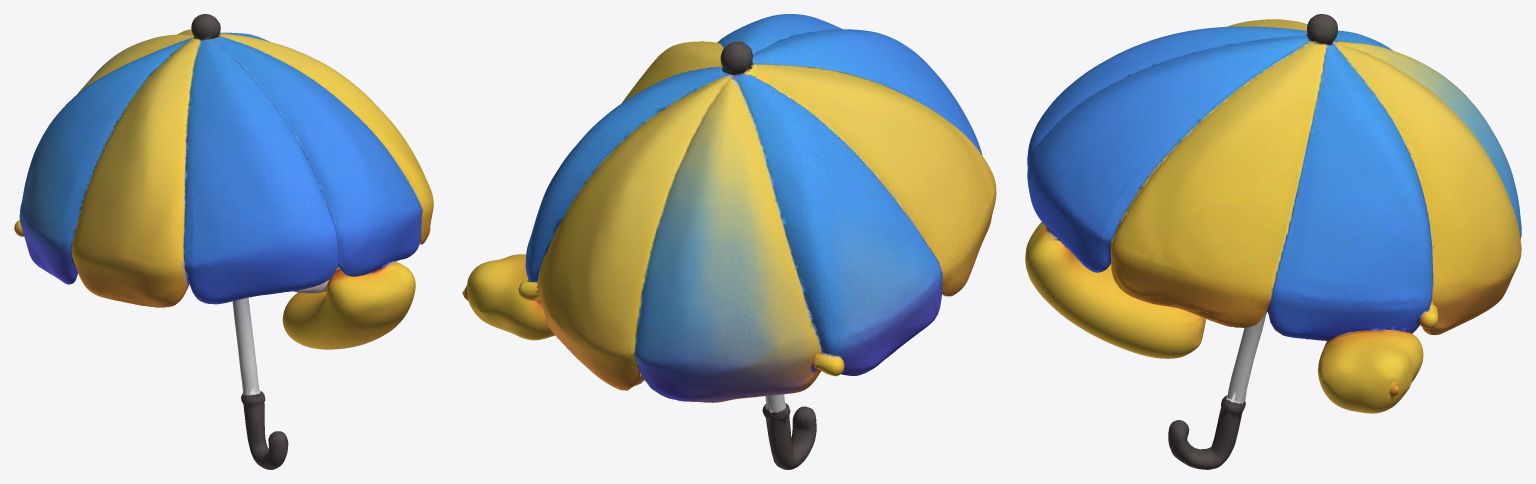
File: env_nest_umbrella_01.glb
3 renders of one model, left to right at view 1: azimuth 30°, elevation 25°; view 2: azimuth 150°, elevation 25°; view 3: azimuth 270°, elevation 25°, orthographic. The views are drawn at different scales.
Visible parts, largest first — view 1: tripo_node_76d7676c-ee03-449c-9f67-8ac23c0dbb65; view 2: tripo_node_76d7676c-ee03-449c-9f67-8ac23c0dbb65; view 3: tripo_node_76d7676c-ee03-449c-9f67-8ac23c0dbb65.
Part boxes in pixels (bbox=[...]): tripo_node_76d7676c-ee03-449c-9f67-8ac23c0dbb65: bbox=[14, 14, 433, 469]; tripo_node_76d7676c-ee03-449c-9f67-8ac23c0dbb65: bbox=[462, 14, 996, 469]; tripo_node_76d7676c-ee03-449c-9f67-8ac23c0dbb65: bbox=[1025, 14, 1521, 469].
Size of the model in its own units: 2.25 by 2.4 by 2.4.
Materials: 1 (1 with a texture image).
